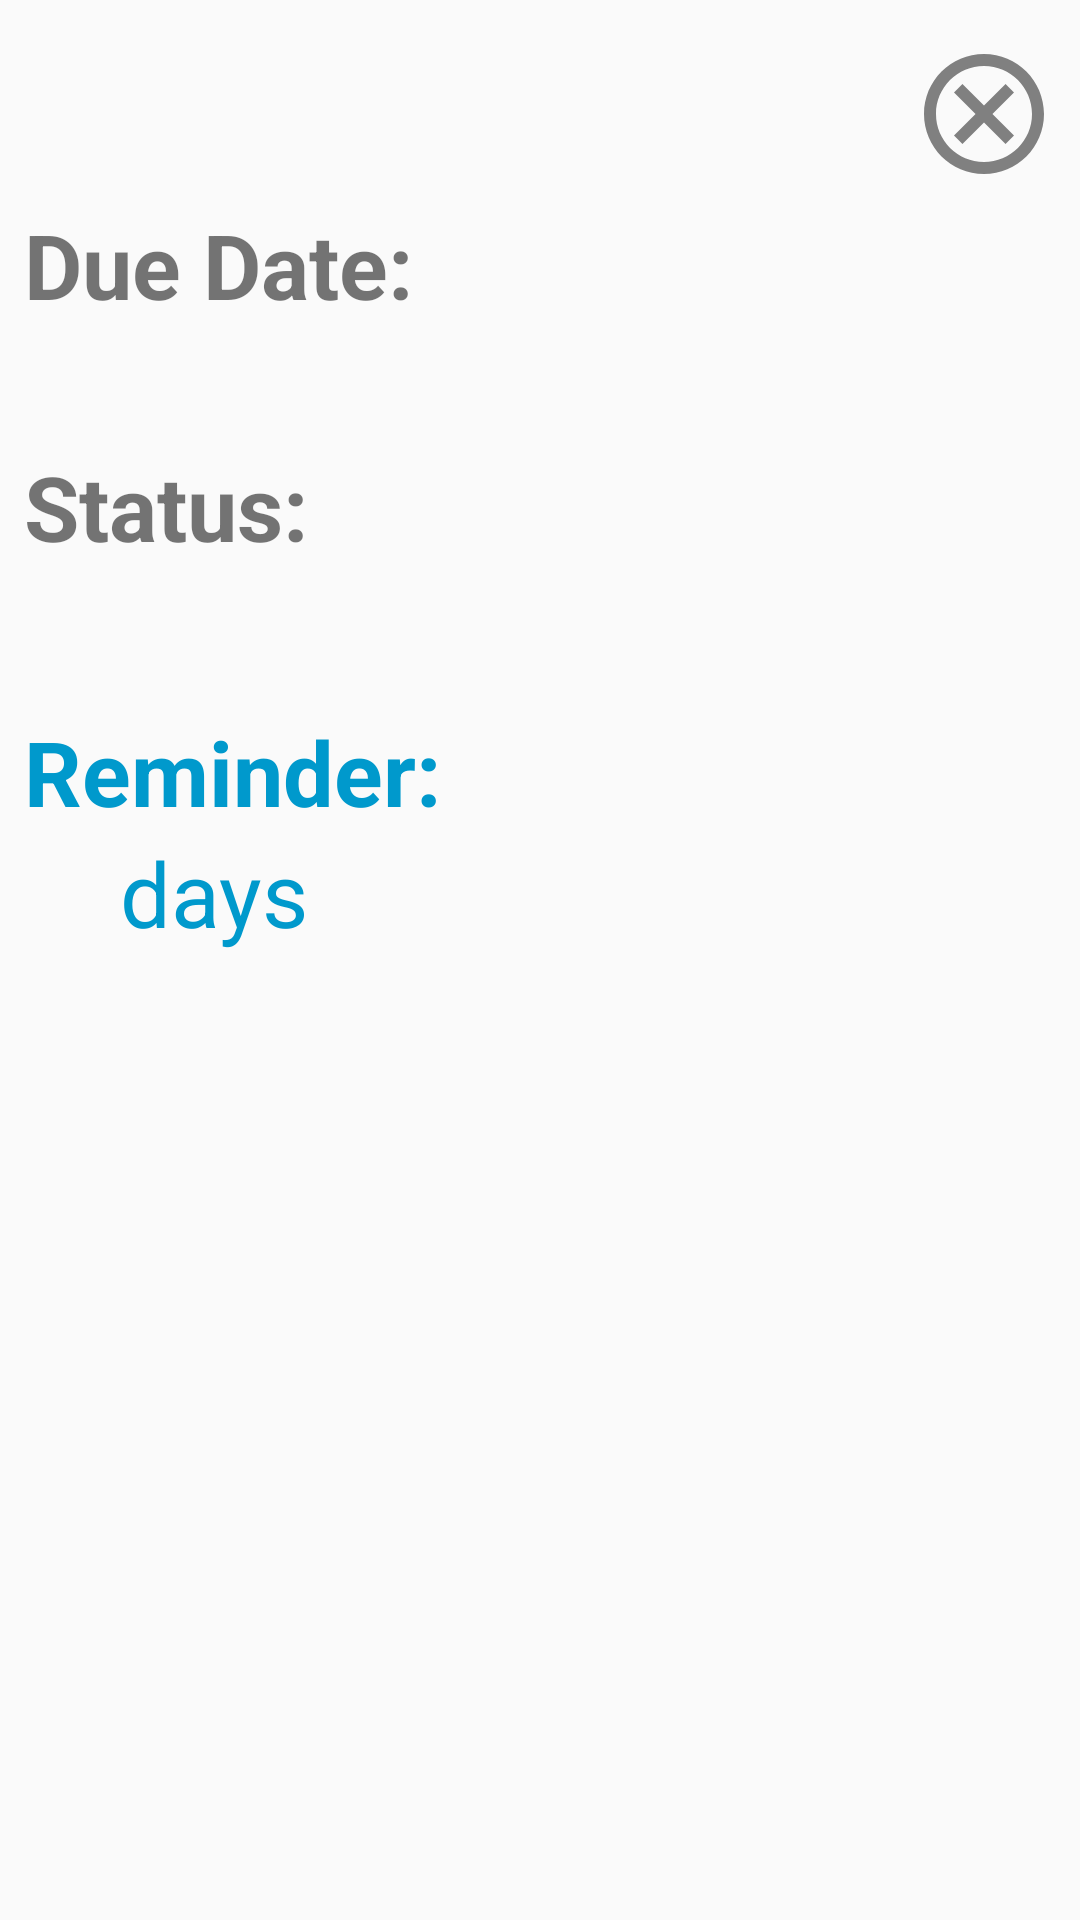

Icons on this 1080w x 1920h Android screen, each with its box as (x1, y1, x2, y2):
cancel: (924, 54, 1044, 174)
